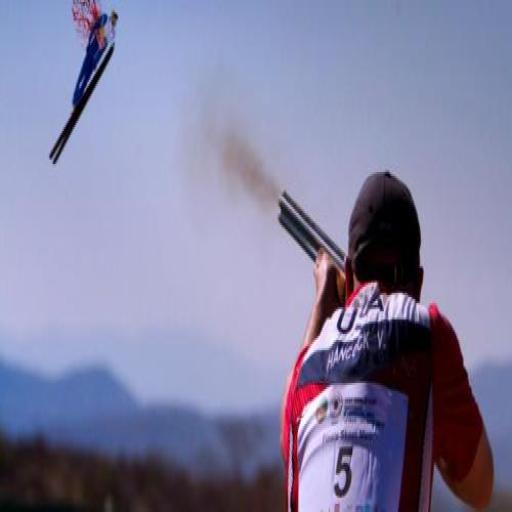shooting: (278, 166, 496, 510)
